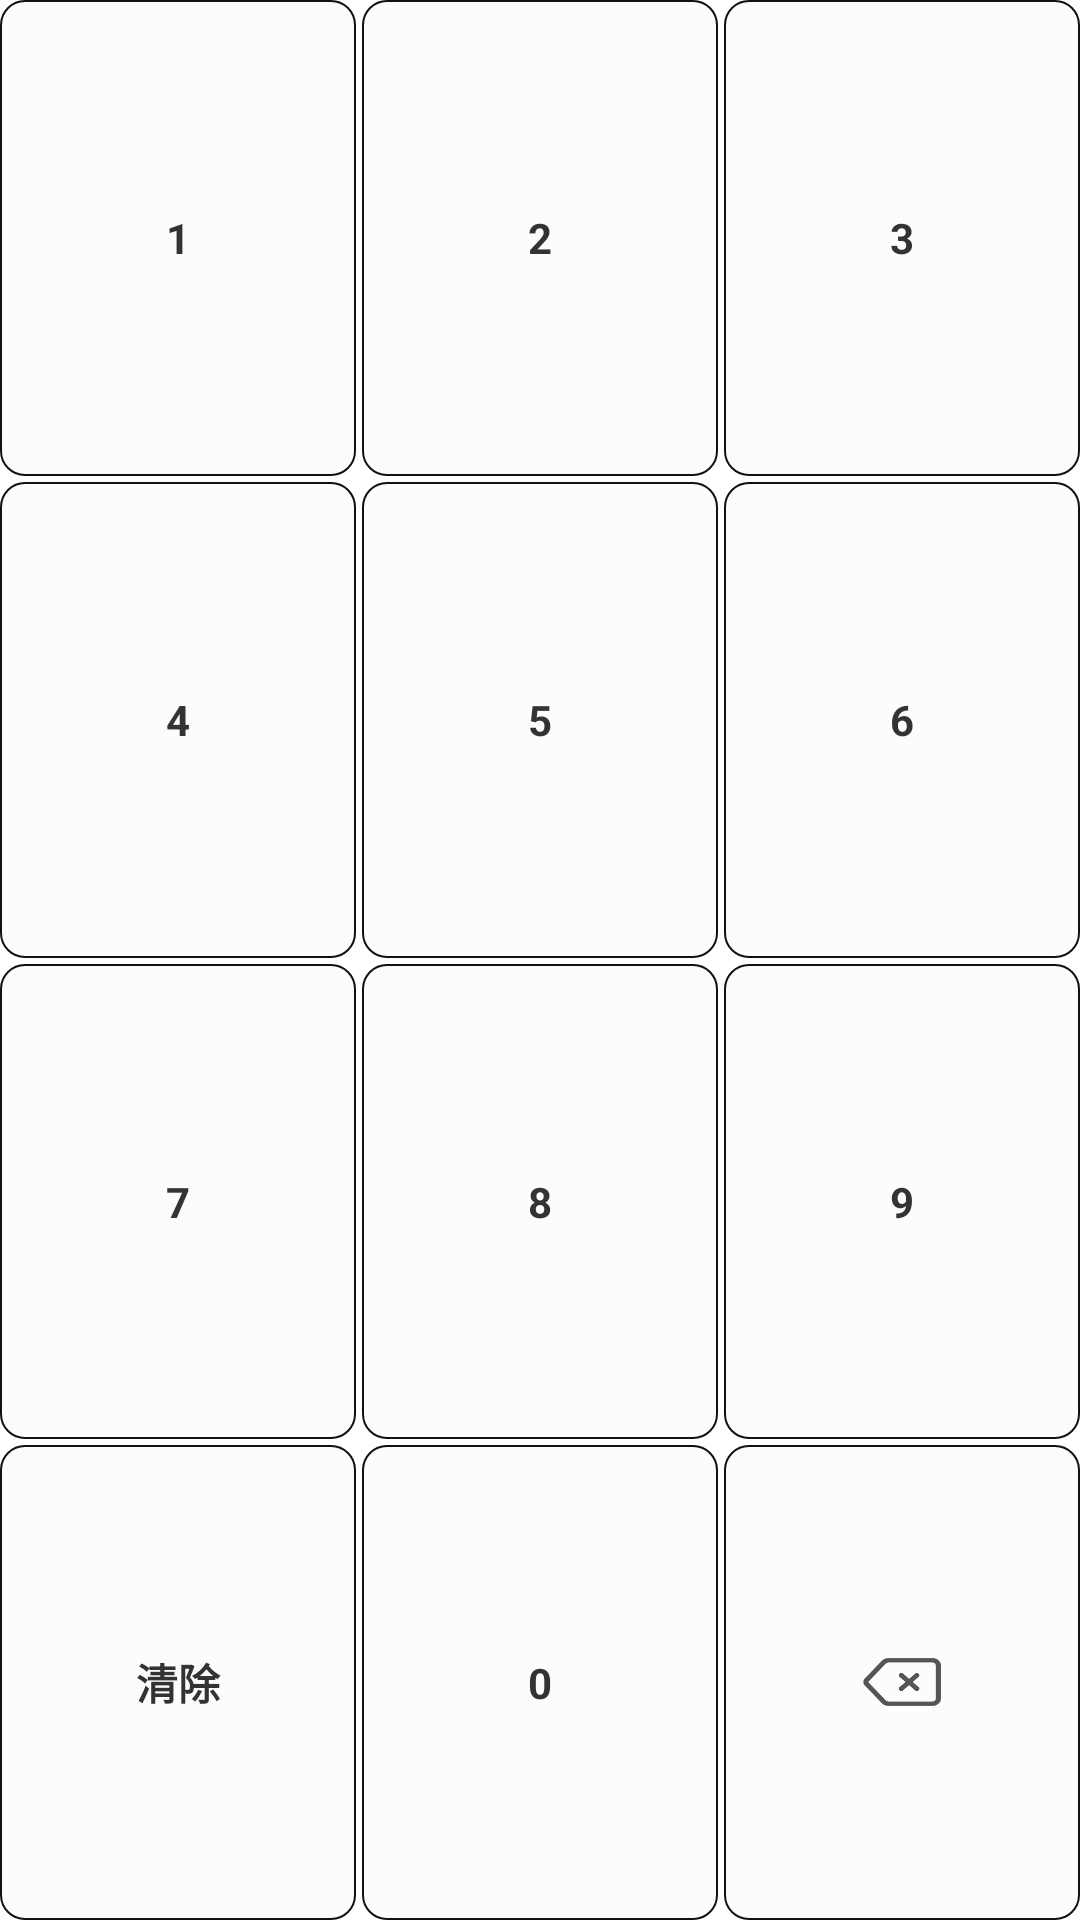

Icons on this 1080 × 1920 Android screen, each with its box as (x1, y1, x2, y2):
payhybrid keybord delete: (863, 1658, 941, 1706)
